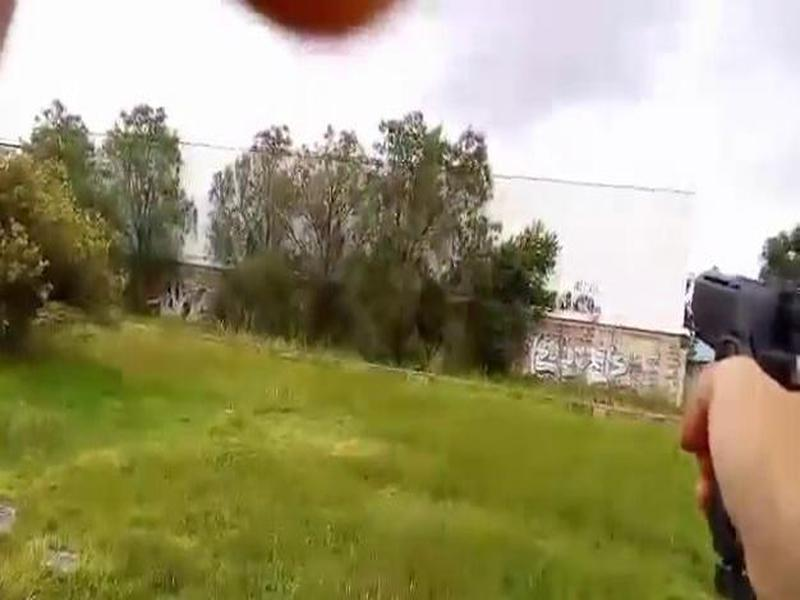Pistola: (663, 245, 800, 522)
